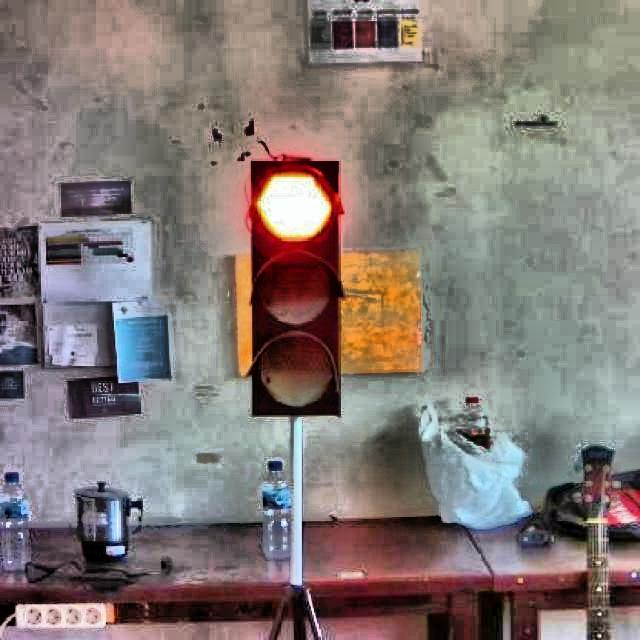red: (244, 156, 354, 422)
